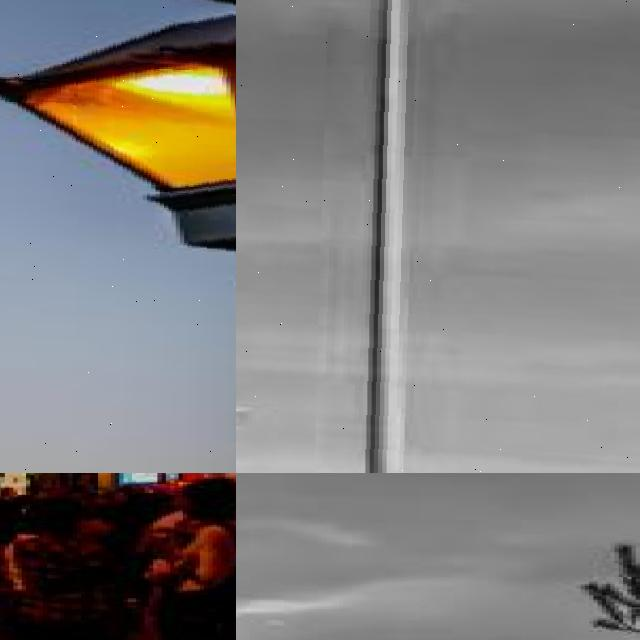street light: (236, 0, 640, 473), (0, 0, 236, 473), (76, 473, 123, 500), (51, 473, 76, 492), (64, 473, 81, 498)
